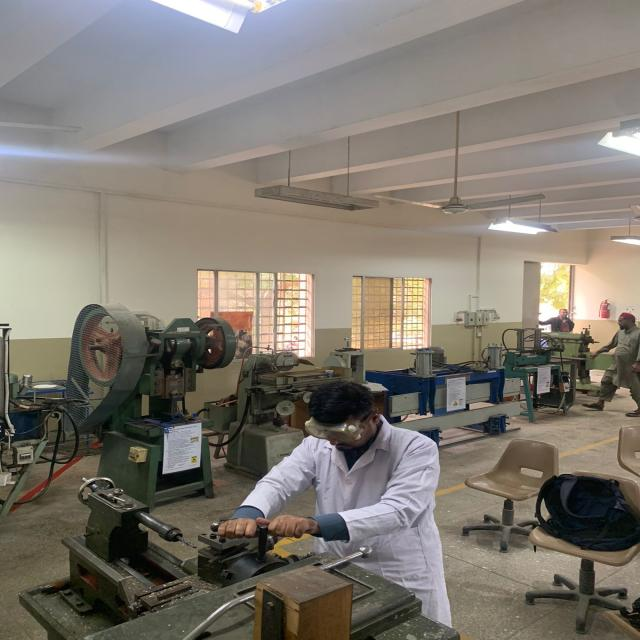googles: (302, 418, 363, 443)
labcoat: (233, 413, 457, 638)
